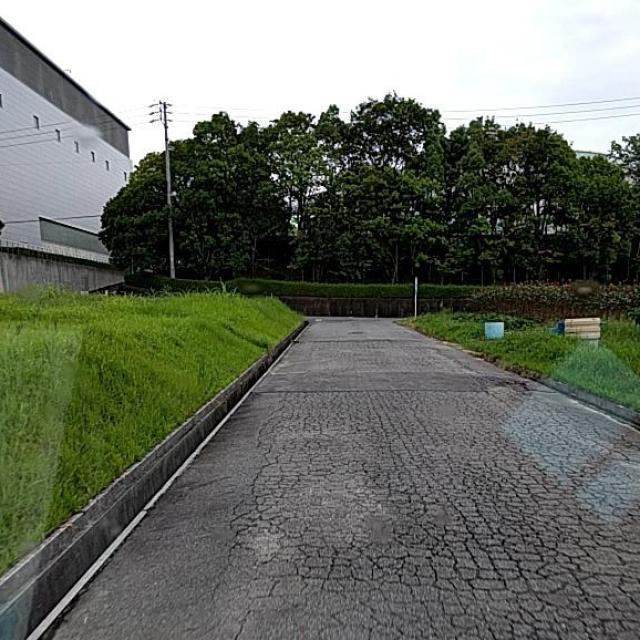Retak Buaya: (244, 380, 640, 640)
